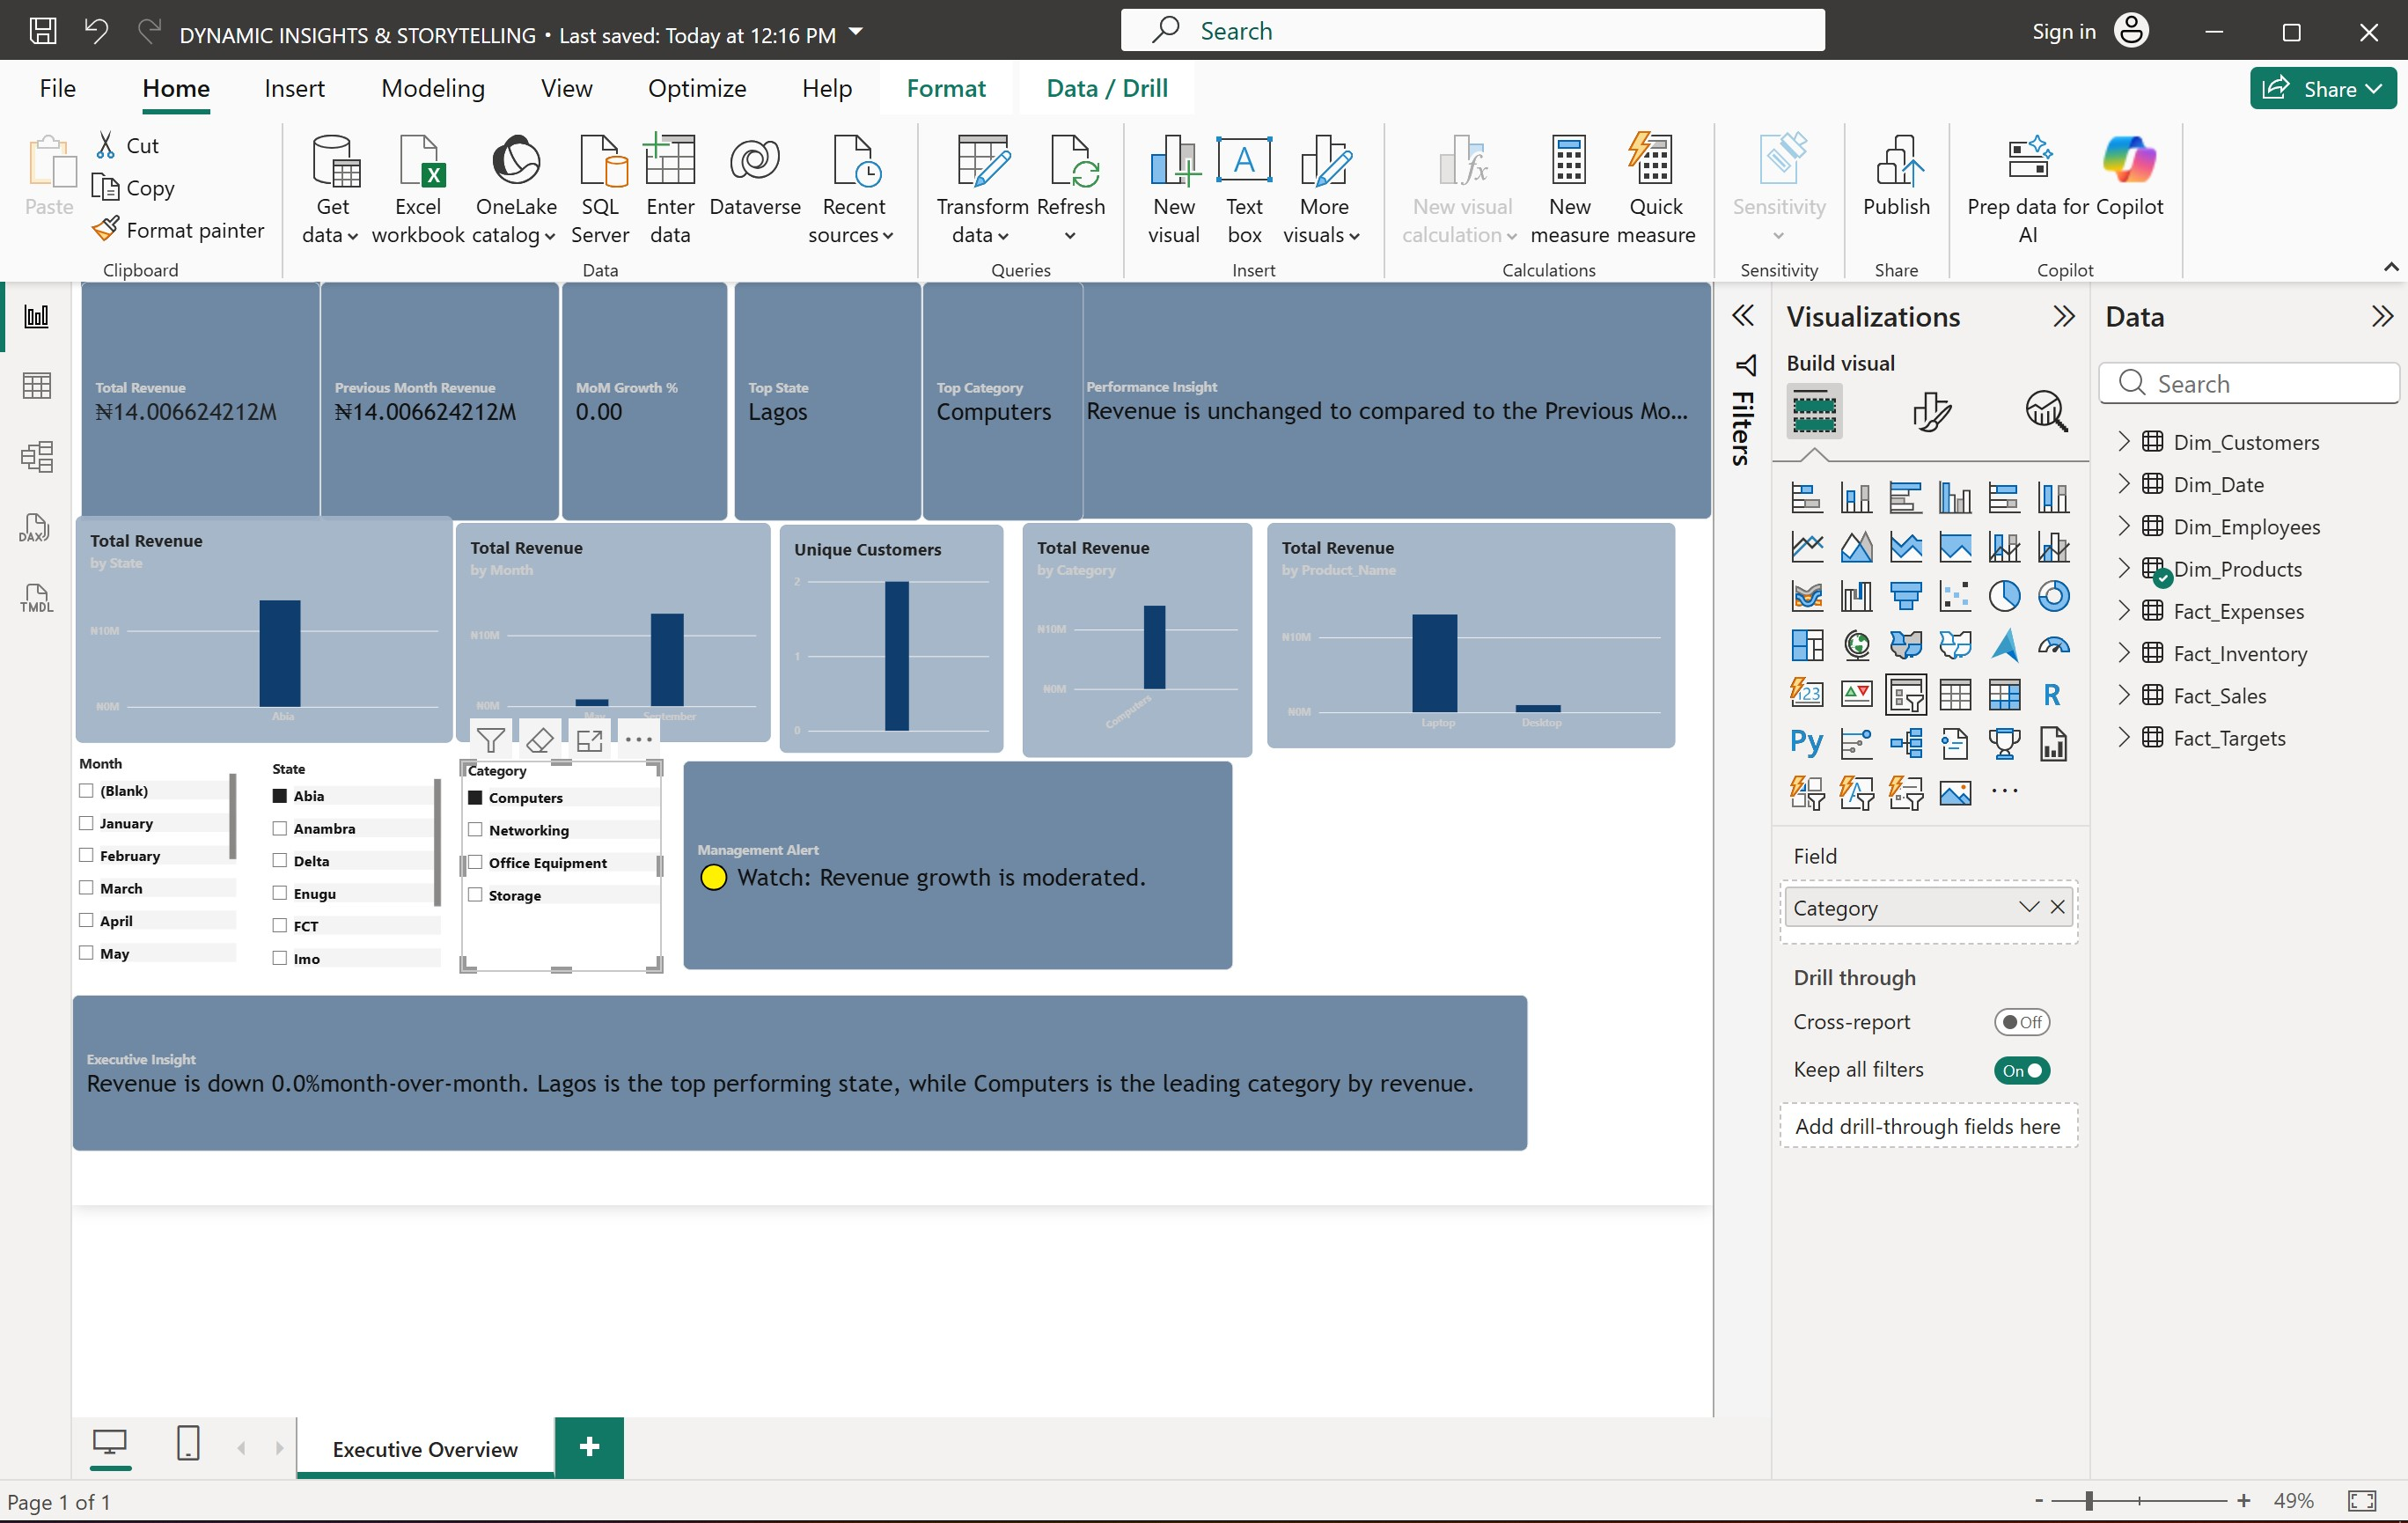

This screenshot's page, from the dashboard's own definition file:
{"tool":"powerbi","page":{"name":"Executive Overview","canvas":[1920,1080],"ordinal":0},"visuals":[{"type":"cardVisual","fields":{"Data":["Dim_Customers.Total Revenue"]},"box":[10,0,280,280],"z":0},{"type":"cardVisual","fields":{"Data":["Dim_Customers.Previous Month Revenue"]},"box":[290.5,0,280,280],"z":1},{"type":"cardVisual","fields":{"Data":["Dim_Customers.MoM Growth %"]},"box":[572.7,0,195.7,280.2],"z":2},{"type":"cardVisual","fields":{"Data":["Dim_Customers.Performance Insight"]},"box":[1193.3,0,718.7,279],"z":3},{"type":"cardVisual","fields":{"Data":["Dim_Customers.Top State"]},"box":[774.6,0,220.4,280.2],"z":4},{"type":"cardVisual","fields":{"Data":["Dim_Customers.Top Category"]},"box":[995.6,0,189.5,280.2],"z":5},{"type":"cardVisual","fields":{"Data":["Dim_Customers.Executive Insight"]},"box":[0,835.3,1704.5,183.5],"z":6},{"type":"clusteredColumnChart","fields":{"Y":["Dim_Customers.Unique Customers"]},"box":[828.2,285,261.8,267.2],"z":7},{"type":"columnChart","fields":{"Category":["Dim_Customers.Join_Date.Variation.Date Hierarchy.Month"],"Y":["Dim_Customers.Total Revenue"]},"box":[448.8,283.2,368.7,256.5],"z":8},{"type":"columnChart","fields":{"Category":["Dim_Customers.State"],"Y":["Dim_Customers.Total Revenue"]},"box":[3.6,274.3,441.7,265.4],"z":9},{"type":"columnChart","fields":{"Category":["Dim_Products.Category"],"Y":["Dim_Customers.Total Revenue"]},"box":[1113.2,281.4,268.9,274.3],"z":10},{"type":"columnChart","fields":{"Category":["Dim_Products.Product_Name"],"Y":["Dim_Customers.Total Revenue"]},"box":[1398.1,281.4,477.3,263.6],"z":11},{"type":"slicer","fields":{"Values":["Dim_Customers.Join_Date.Variation.Date Hierarchy.Month"]},"box":[0,552.1,192,246],"z":12},{"type":"slicer","fields":{"Values":["Dim_Customers.State"]},"box":[226.2,557.5,204.8,249.4],"z":13},{"type":"slicer","fields":{"Values":["Dim_Products.Category"]},"box":[456,561,235.1,245.8],"z":14},{"type":"cardVisual","fields":{"Data":["Dim_Customers.Management Alert"]},"box":[714.2,561,644.8,245.2],"z":15}]}

Visuals, with their boxes on the page's 1920x1080 design canvas (x1, y1, x2, y2). These are canvas units, not pixel positions in the 2408x1523 screenshot, which may show the page scaled, cropped or inside an application window:
cardVisual - Dim_Customers.Total Revenue: 10/0/290/280
cardVisual - Dim_Customers.Previous Month Revenue: 290/0/570/280
cardVisual - Dim_Customers.MoM Growth %: 573/0/768/280
cardVisual - Dim_Customers.Performance Insight: 1193/0/1912/279
cardVisual - Dim_Customers.Top State: 775/0/995/280
cardVisual - Dim_Customers.Top Category: 996/0/1185/280
cardVisual - Dim_Customers.Executive Insight: 0/835/1704/1019
clusteredColumnChart - Dim_Customers.Unique Customers: 828/285/1090/552
columnChart - Dim_Customers.Join_Date.Variation.Date Hierarchy.Month x Dim_Customers.Total Revenue: 449/283/818/540
columnChart - Dim_Customers.State x Dim_Customers.Total Revenue: 4/274/445/540
columnChart - Dim_Products.Category x Dim_Customers.Total Revenue: 1113/281/1382/556
columnChart - Dim_Products.Product_Name x Dim_Customers.Total Revenue: 1398/281/1875/545
slicer - Dim_Customers.Join_Date.Variation.Date Hierarchy.Month: 0/552/192/798
slicer - Dim_Customers.State: 226/558/431/807
slicer - Dim_Products.Category: 456/561/691/807
cardVisual - Dim_Customers.Management Alert: 714/561/1359/806
